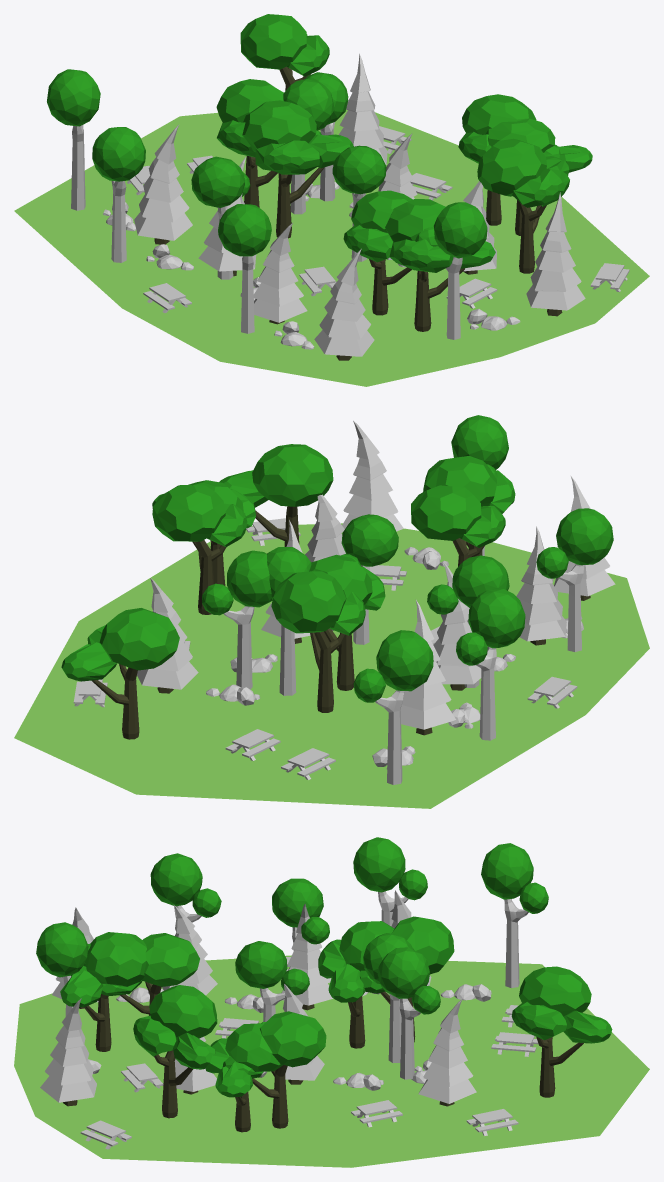
File: Park.obj
The picture shows the model from 3 angles, top to bottom: view 1: azimuth 30°, elevation 25°; view 2: azimuth 150°, elevation 25°; view 3: azimuth 270°, elevation 25°; orthographic projection. The views are drawn at different scales.
Visible parts, largest first — view 1: Loft, Cylinder.001, Cylinder.001_7, Cylinder.001_6, Cylinder.001_4, Platonic_1, Platonic_7, Platonic_2, Icosphere_Icosphere_002, Icosphere_Icosphere_002_2, Icosphere_Icosphere_002_7, Cylinder.001_1 (+35 smaller); view 2: Loft, Platonic_7, Platonic_1, Platonic, Platonic_3, Platonic_4, Cylinder.001_4, Cylinder.001_7, Cylinder.001, Icosphere_Icosphere_002, Icosphere_Icosphere_002_2, Icosphere_Icosphere_002_6 (+36 smaller); view 3: Loft, Cylinder.001_7, Cylinder.001_1, Platonic_6, Platonic_3, Platonic_7, Platonic_1, Platonic_4, Icosphere_Icosphere_002, Icosphere_Icosphere_002_2, Icosphere_Icosphere_002_7, Icosphere_Icosphere_002_6 (+39 smaller).
Boxes of the visible parts, x1=… form: Loft: x1=14, y1=109, x2=649, y2=386; Cylinder.001: x1=134, y1=125, x2=192, y2=244; Cylinder.001_7: x1=526, y1=192, x2=585, y2=316; Cylinder.001_6: x1=314, y1=248, x2=374, y2=360; Cylinder.001_4: x1=253, y1=223, x2=307, y2=324; Platonic_1: x1=240, y1=14, x2=306, y2=69; Platonic_7: x1=477, y1=138, x2=546, y2=196; Platonic_2: x1=242, y1=100, x2=316, y2=151; Icosphere_Icosphere_002: x1=47, y1=69, x2=100, y2=126; Icosphere_Icosphere_002_2: x1=92, y1=127, x2=145, y2=181; Icosphere_Icosphere_002_7: x1=433, y1=202, x2=487, y2=258; Cylinder.001_1: x1=338, y1=53, x2=387, y2=164; Loft: x1=14, y1=523, x2=649, y2=808; Platonic_7: x1=252, y1=444, x2=333, y2=506; Platonic_1: x1=99, y1=608, x2=179, y2=670; Platonic: x1=271, y1=571, x2=345, y2=633; Platonic_3: x1=152, y1=485, x2=225, y2=541; Platonic_4: x1=411, y1=485, x2=481, y2=540; Cylinder.001_4: x1=516, y1=526, x2=566, y2=645; Cylinder.001_7: x1=342, y1=421, x2=403, y2=531; Cylinder.001: x1=400, y1=599, x2=455, y2=735; Icosphere_Icosphere_002: x1=376, y1=630, x2=433, y2=691; Icosphere_Icosphere_002_2: x1=468, y1=588, x2=525, y2=648; Icosphere_Icosphere_002_6: x1=556, y1=508, x2=613, y2=565; Loft: x1=14, y1=955, x2=649, y2=1167; Cylinder.001_7: x1=40, y1=998, x2=96, y2=1106; Cylinder.001_1: x1=418, y1=998, x2=476, y2=1106; Platonic_6: x1=85, y1=932, x2=146, y2=986; Platonic_3: x1=260, y1=1011, x2=326, y2=1067; Platonic_7: x1=149, y1=985, x2=217, y2=1038; Platonic_1: x1=519, y1=966, x2=591, y2=1016; Platonic_4: x1=142, y1=933, x2=199, y2=986; Icosphere_Icosphere_002: x1=481, y1=843, x2=533, y2=899; Icosphere_Icosphere_002_2: x1=353, y1=837, x2=405, y2=892; Icosphere_Icosphere_002_7: x1=36, y1=922, x2=88, y2=977; Icosphere_Icosphere_002_6: x1=150, y1=853, x2=202, y2=906.
Bounding box in the file's own units: 1292 × 394 × 1634.
